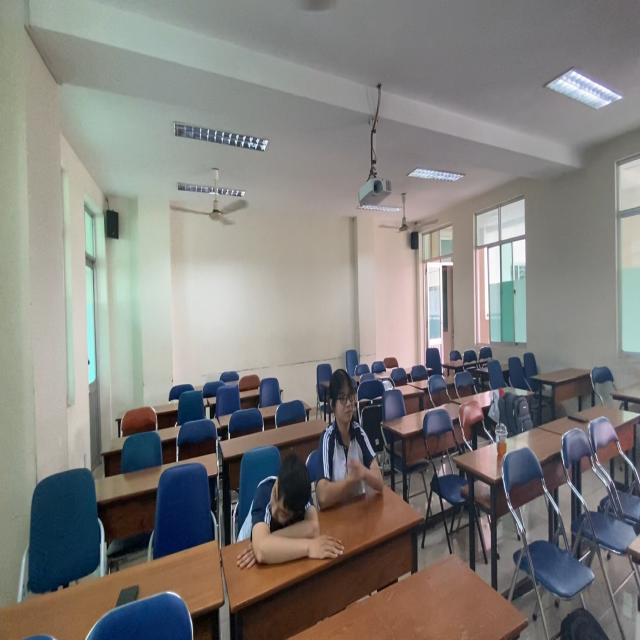sleep: (245, 453, 321, 563)
